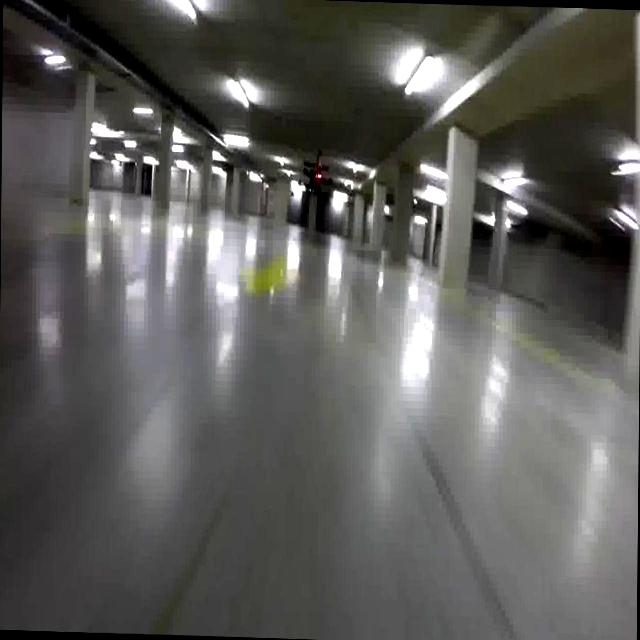drone: (293, 150, 333, 214)
